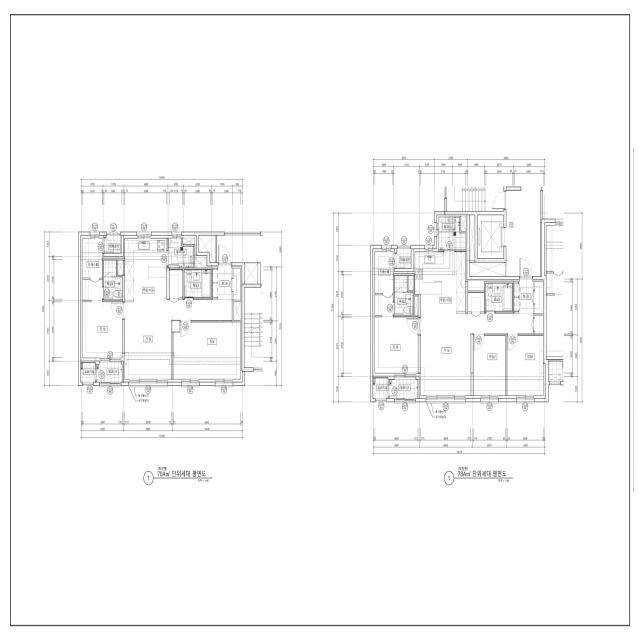space_balconi: (439, 217, 465, 250), (168, 238, 194, 268), (389, 377, 418, 398), (97, 362, 122, 382)
space_bedroom: (173, 322, 240, 379), (375, 317, 418, 373), (83, 302, 122, 358), (507, 336, 543, 395), (473, 336, 506, 395)
space_dressroom: (83, 238, 102, 300), (375, 252, 393, 315)
space_elevator: (478, 215, 504, 259)
space_elevator_hall: (506, 190, 540, 276)
space_front: (213, 264, 240, 300), (514, 278, 534, 313)
space_kitchen: (415, 252, 466, 312), (125, 239, 167, 300)
space_living_room: (421, 311, 534, 395), (125, 300, 232, 379)
space_other: (469, 262, 506, 276), (199, 236, 215, 262), (169, 270, 183, 298), (104, 235, 121, 253), (395, 249, 411, 268), (468, 293, 484, 312), (244, 263, 258, 284), (469, 215, 475, 261), (535, 282, 543, 314), (535, 316, 543, 334), (233, 302, 241, 320), (195, 258, 206, 268), (408, 275, 414, 290), (414, 296, 418, 315), (118, 260, 123, 275), (183, 238, 195, 244), (461, 217, 466, 231)
space_outdoor_room: (373, 378, 388, 398), (81, 362, 95, 382)
space_toilet: (394, 275, 413, 315), (486, 283, 513, 311), (184, 270, 211, 298), (104, 260, 122, 300)
